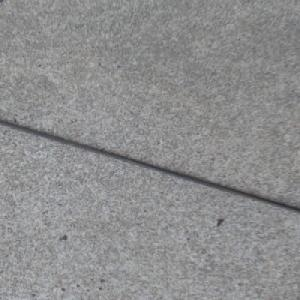LuggagePart: (0, 119, 300, 213)
